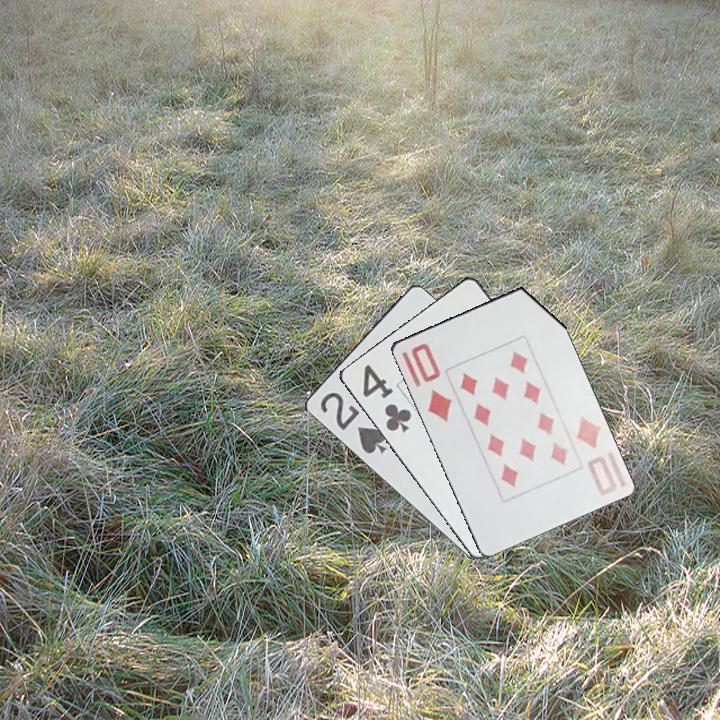2s: (316, 389, 389, 458)
4c: (359, 361, 414, 436)
Td: (407, 339, 454, 425), (572, 412, 619, 498)
